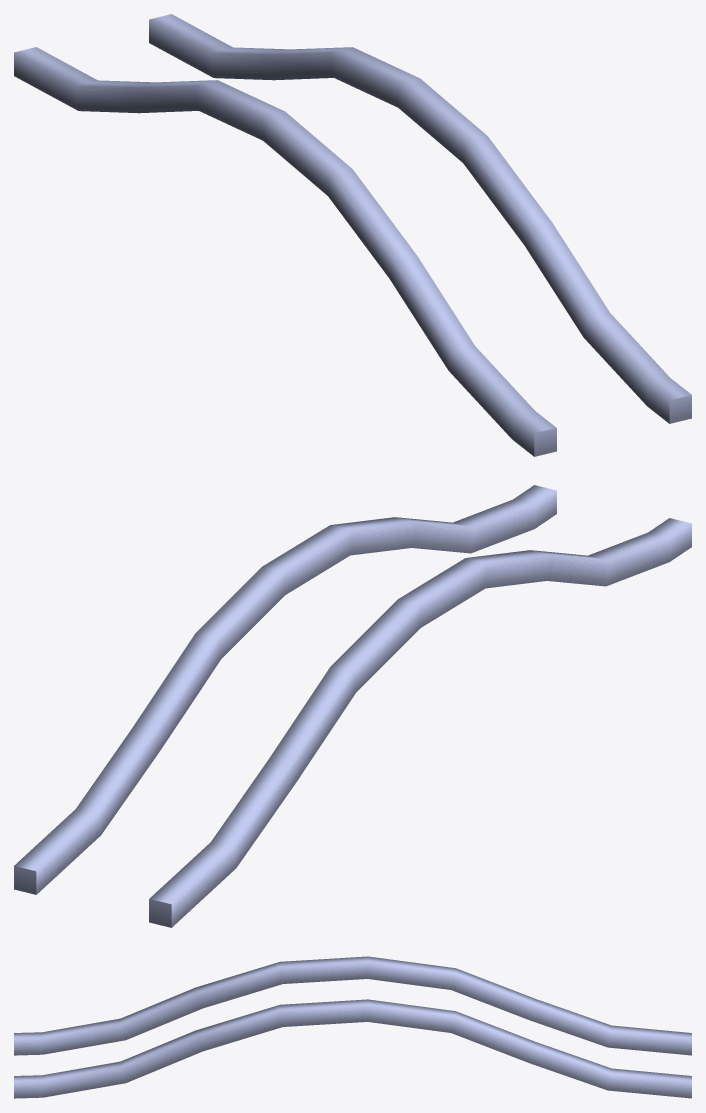
Rendered from railroad-rail-straight-bump-up.glb.
3 renders of one model, top to bottom at view 1: azimuth 30°, elevation 25°; view 2: azimuth 150°, elevation 25°; view 3: azimuth 270°, elevation 25°, orthographic. The views are drawn at different scales.
Parts seen in each view (by area): view 1: railroad-rail-straight-bump-up; view 2: railroad-rail-straight-bump-up; view 3: railroad-rail-straight-bump-up.
Part boxes in pixels (x1=…): railroad-rail-straight-bump-up: x1=14, y1=14, x2=691, y2=456; railroad-rail-straight-bump-up: x1=14, y1=485, x2=691, y2=927; railroad-rail-straight-bump-up: x1=14, y1=956, x2=691, y2=1098.
Size of the model in its own units: 0.6997 by 0.5986 by 4.
1 material, 1 textured.
